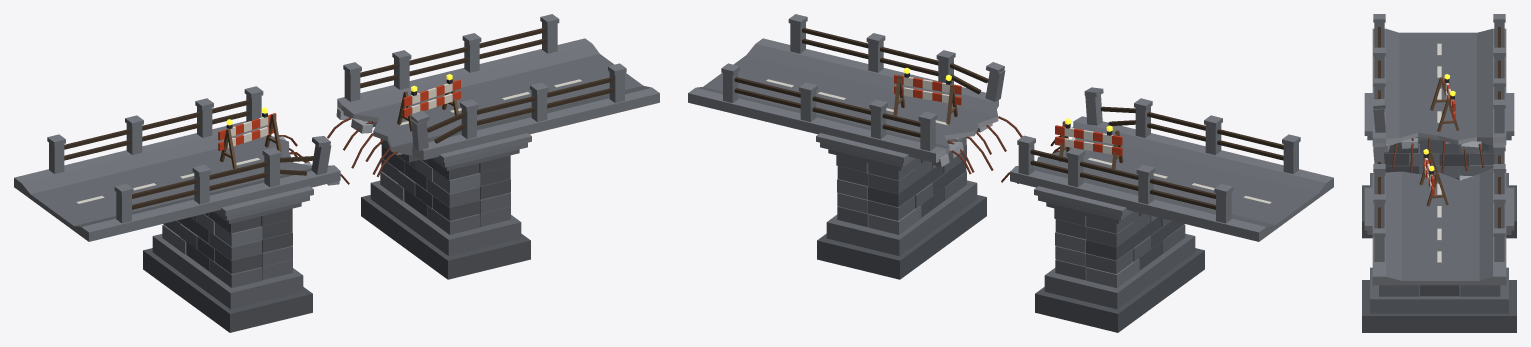
The model's file is broken bridge.fbx.
3 views of the same model, side by side, from view 1: azimuth 30°, elevation 25°; view 2: azimuth 150°, elevation 25°; view 3: azimuth 270°, elevation 25° (orthographic). The views are drawn at different scales.
Parts seen in each view (by area): view 1: Span_Right_RoadSlab; view 2: Span_Right_RoadSlab; view 3: Span_Right_RoadSlab.
Part boxes in pixels (x1=…): Span_Right_RoadSlab: x1=14, y1=14, x2=659, y2=332; Span_Right_RoadSlab: x1=688, y1=14, x2=1333, y2=332; Span_Right_RoadSlab: x1=1362, y1=14, x2=1516, y2=332.
Size of the model in its own units: 2200 by 616 by 580.
